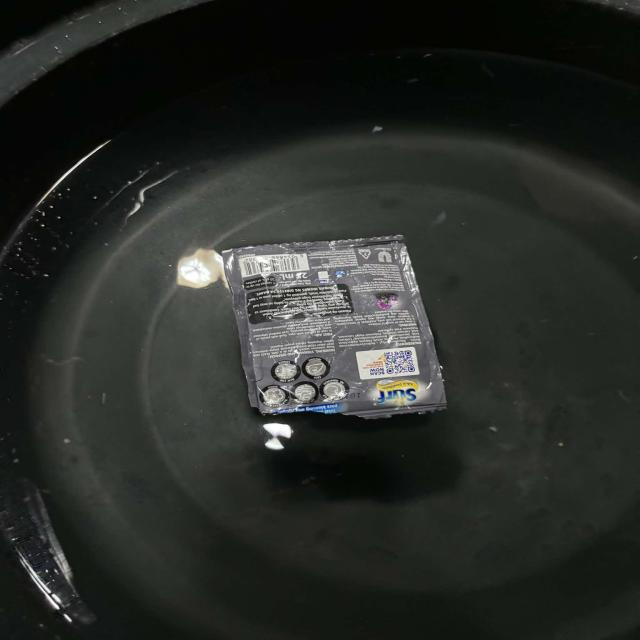Plastic Wrapper: (222, 235, 446, 418)
